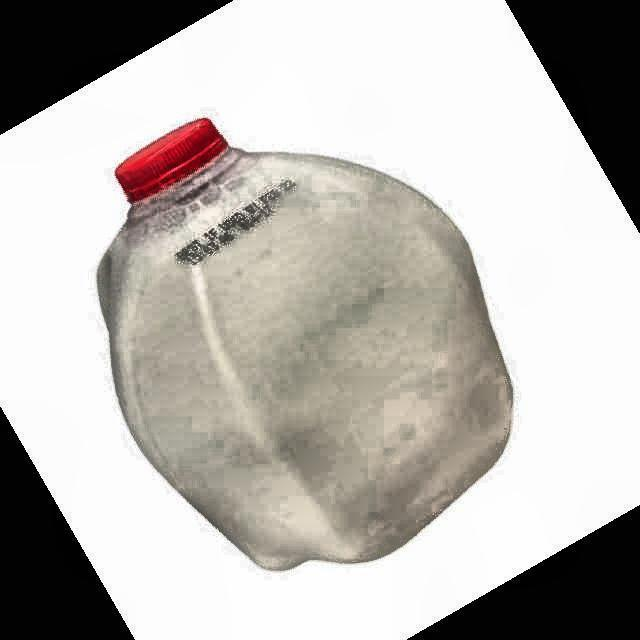plastic: (98, 119, 512, 570)
